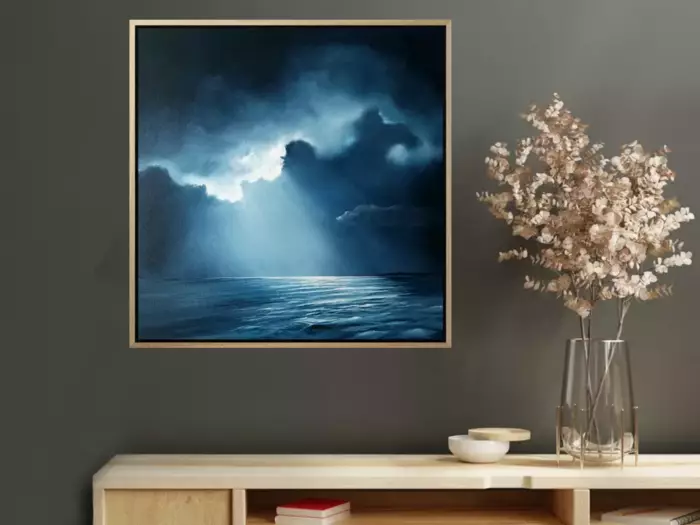painting: (129, 19, 453, 349)
